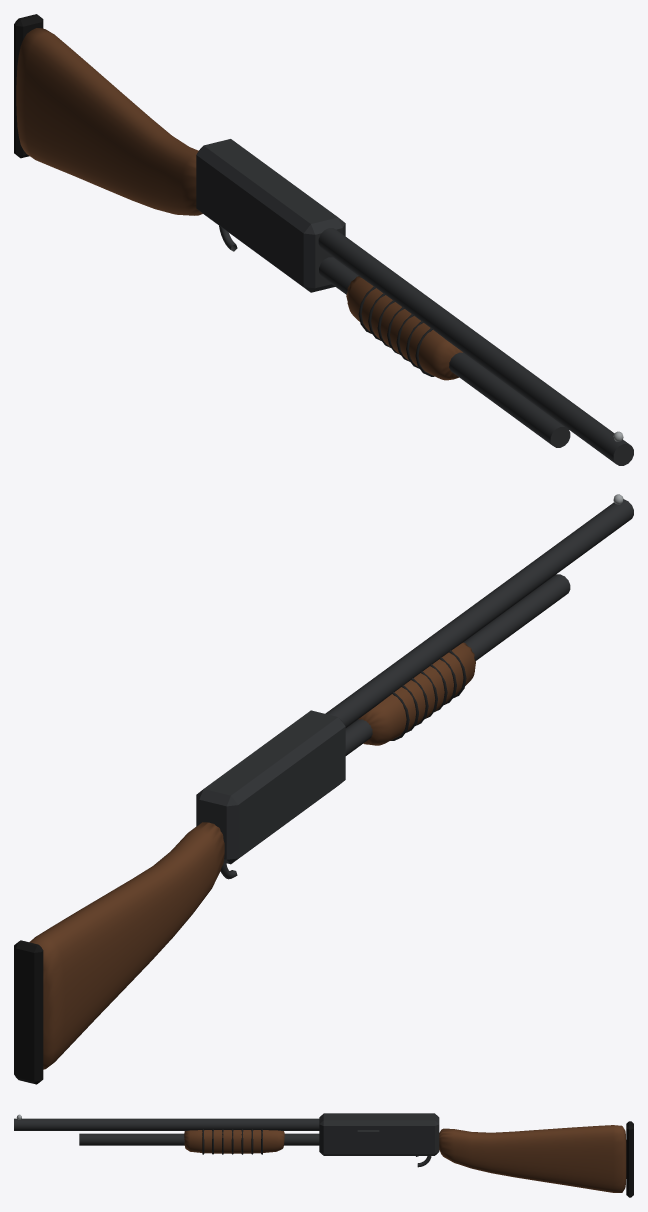
The model's file is shotgun.glb.
3 views of the same model, one above another, from view 1: azimuth 30°, elevation 25°; view 2: azimuth 150°, elevation 25°; view 3: azimuth 270°, elevation 25° (orthographic). The views are drawn at different scales.
Visible parts, largest first — view 1: shotgun; view 2: shotgun; view 3: shotgun.
Part boxes in pixels (x1,y1,x2,y2): shotgun: [14, 14, 633, 465]; shotgun: [14, 494, 633, 1084]; shotgun: [14, 1113, 633, 1197].
Bounding box in the file's own units: 0.059 × 0.1625 × 1.14.
